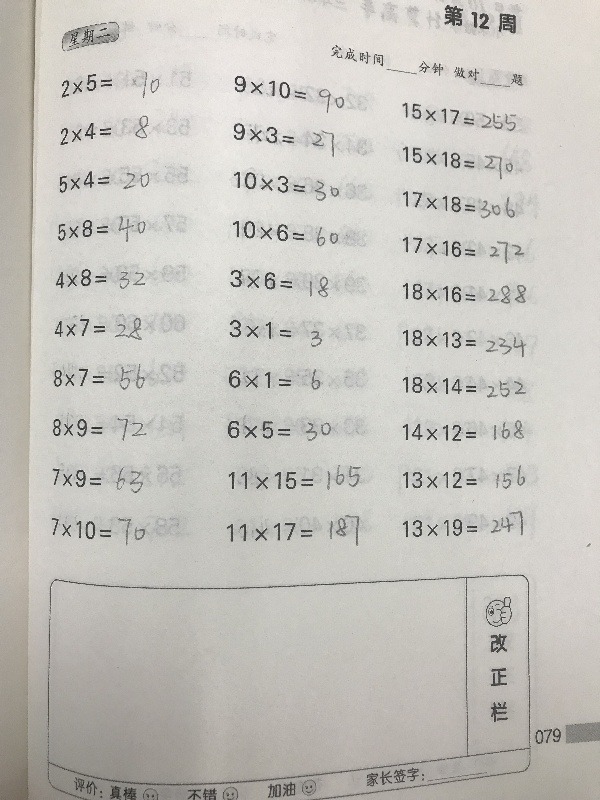equation: (223, 509, 363, 547), (233, 71, 349, 115), (397, 328, 529, 364), (224, 462, 365, 494), (399, 460, 532, 492), (229, 122, 347, 158), (48, 112, 166, 148), (400, 413, 530, 445), (232, 167, 346, 203), (399, 507, 526, 539), (399, 235, 528, 266), (227, 266, 335, 303), (227, 314, 335, 351), (48, 459, 153, 496), (398, 146, 526, 176), (52, 68, 171, 100), (223, 413, 336, 446), (399, 279, 529, 307), (399, 190, 519, 220), (48, 512, 147, 548), (49, 360, 149, 395), (50, 309, 155, 342), (229, 220, 344, 250), (48, 411, 155, 443), (398, 374, 529, 400), (224, 363, 334, 392), (53, 212, 149, 245), (397, 104, 520, 129), (55, 166, 153, 194), (52, 265, 149, 293)
